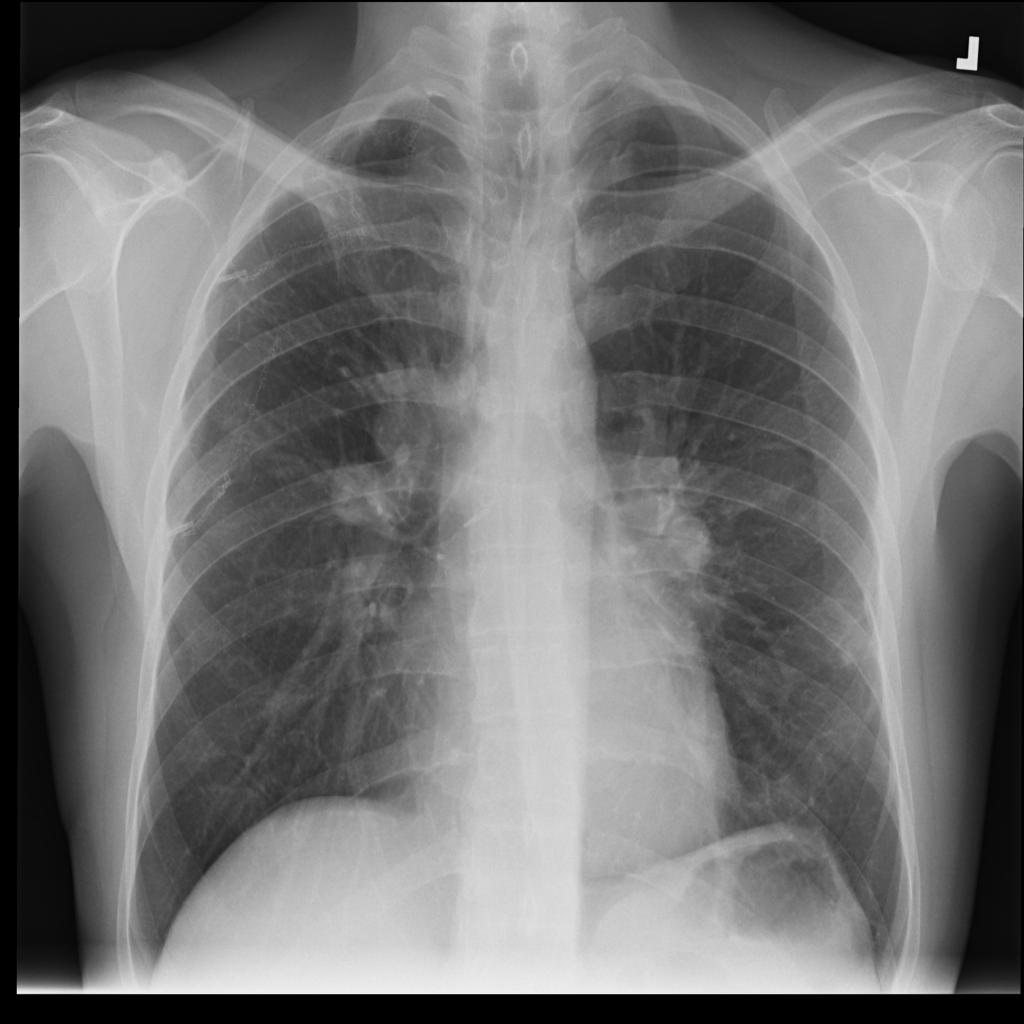nodule: (323, 455, 397, 535)
